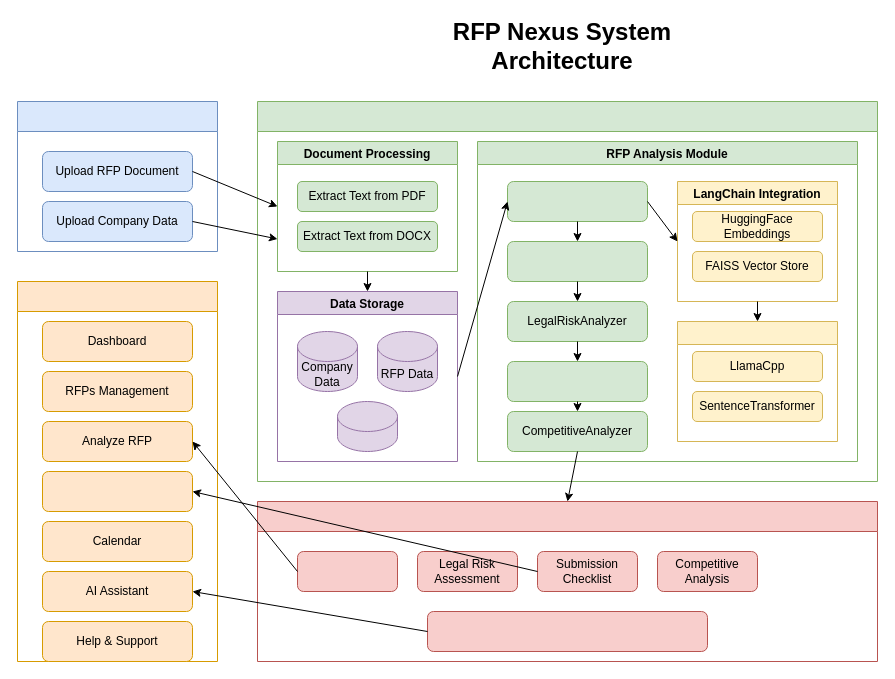
This 895x679 diagram has some shape labels left out. The box of each missing label's shape, as (x1, y1, x2, y2) in pixels:
Analysis Output: (256, 500, 878, 662)
Backend Processing: (256, 100, 878, 482)
Bid Recommendation: (426, 610, 708, 652)
Checklists: (42, 470, 192, 512)
DocumentProcessor: (506, 180, 648, 222)
Eligibility Analysis: (296, 550, 398, 592)
EligibilityAgent: (506, 240, 648, 282)
Frontend UI (Next.js): (16, 280, 218, 662)
ML Models: (676, 320, 838, 442)
SubmissionRequirements Analyzer: (506, 360, 648, 402)
User Input: (16, 100, 218, 252)
Vector Database: (336, 400, 398, 452)
